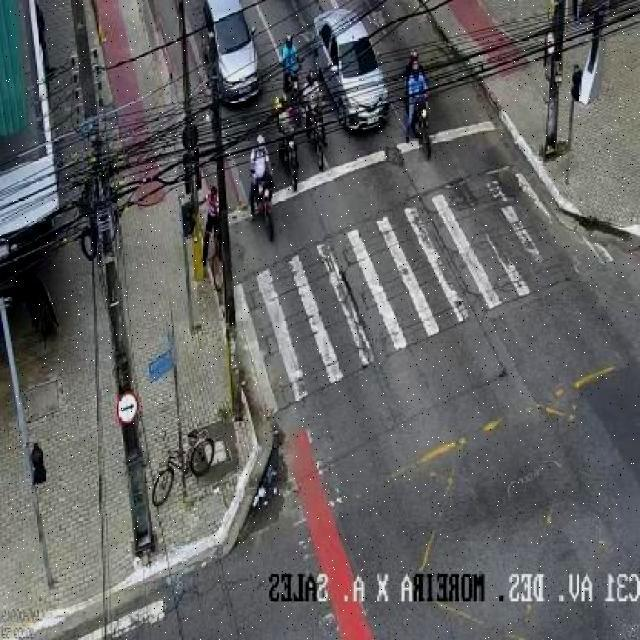Car: (314, 8, 392, 134), (203, 0, 262, 105)
Cycle: (151, 427, 218, 508), (249, 163, 277, 238), (408, 92, 436, 162), (307, 116, 330, 172), (280, 135, 300, 191)
